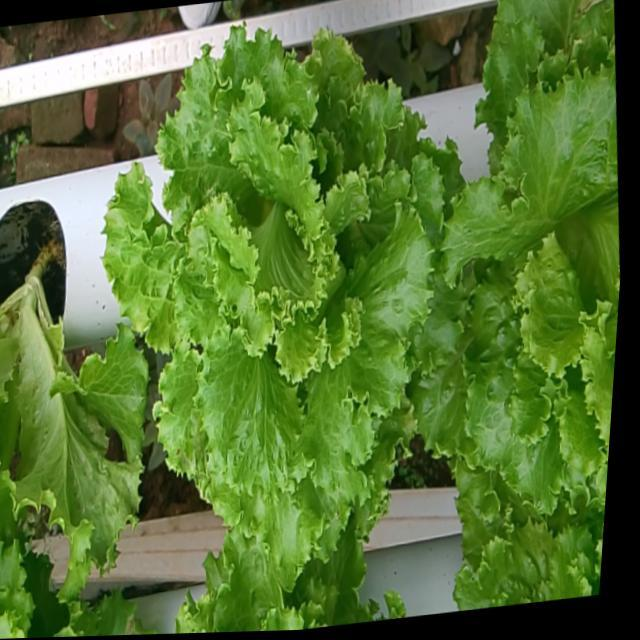Mature: (112, 13, 451, 551), (420, 48, 620, 501)
